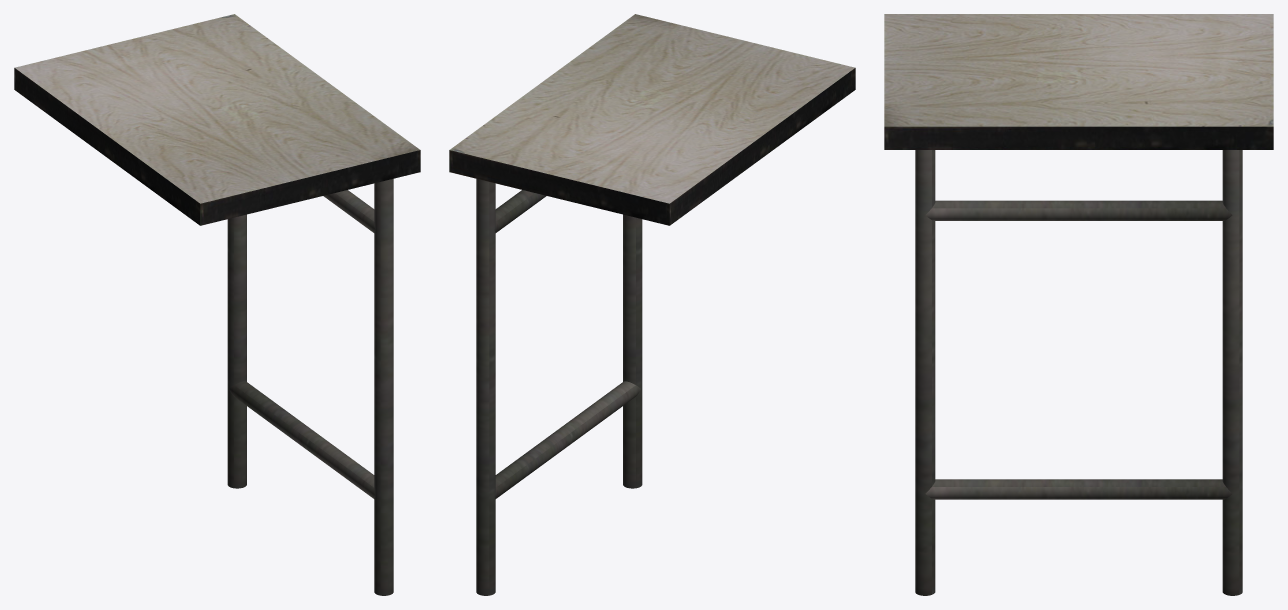
The model's file is Table.FBX.
The picture shows the model from 3 angles, left to right: view 1: azimuth 30°, elevation 25°; view 2: azimuth 150°, elevation 25°; view 3: azimuth 270°, elevation 25°; orthographic projection. The views are drawn at different scales.
Visible parts, largest first — view 1: Box001, Cylinder001, Cylinder002, Cylinder004, Cylinder003; view 2: Box001, Cylinder002, Cylinder001, Cylinder004, Cylinder003; view 3: Box001, Cylinder001, Cylinder002, Cylinder004, Cylinder003.
Part boxes in pixels (x1,y1,x2,y2): Box001: (14,14,420,225); Cylinder001: (374,179,393,595); Cylinder002: (227,214,246,488); Cylinder004: (229,381,375,498); Cylinder003: (323,190,375,232); Box001: (449,14,855,225); Cylinder002: (476,179,495,595); Cylinder001: (623,214,642,488); Cylinder004: (494,381,640,498); Cylinder003: (494,190,546,232); Box001: (884,14,1273,149); Cylinder001: (915,150,935,595); Cylinder002: (1222,150,1242,595); Cylinder004: (925,479,1232,499); Cylinder003: (925,200,1232,220).
Bounding box in the file's own units: 26 × 51 × 38.
